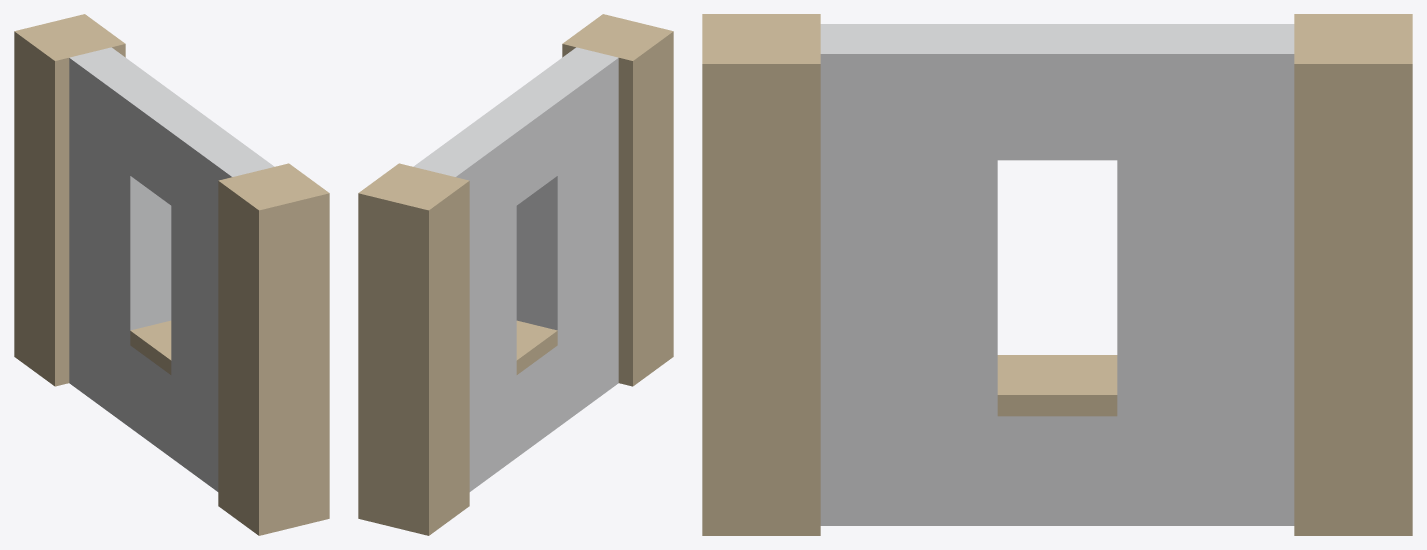
File: Wood_Window_Square_Sill_01.glb
3 renders of one model, left to right at view 1: azimuth 30°, elevation 25°; view 2: azimuth 150°, elevation 25°; view 3: azimuth 270°, elevation 25°, orthographic. The views are drawn at different scales.
Parts seen in each view (by area): view 1: Mesh1 Wood_Window_Square_Sill Model; view 2: Mesh1 Wood_Window_Square_Sill Model; view 3: Mesh1 Wood_Window_Square_Sill Model.
Boxes of the visible parts, box(x1,y1,x2,y2) form: Mesh1 Wood_Window_Square_Sill Model: box(14, 14, 329, 535); Mesh1 Wood_Window_Square_Sill Model: box(358, 14, 673, 535); Mesh1 Wood_Window_Square_Sill Model: box(702, 14, 1412, 535).
Size of the model in its own units: 0.5 by 2.2 by 3.
